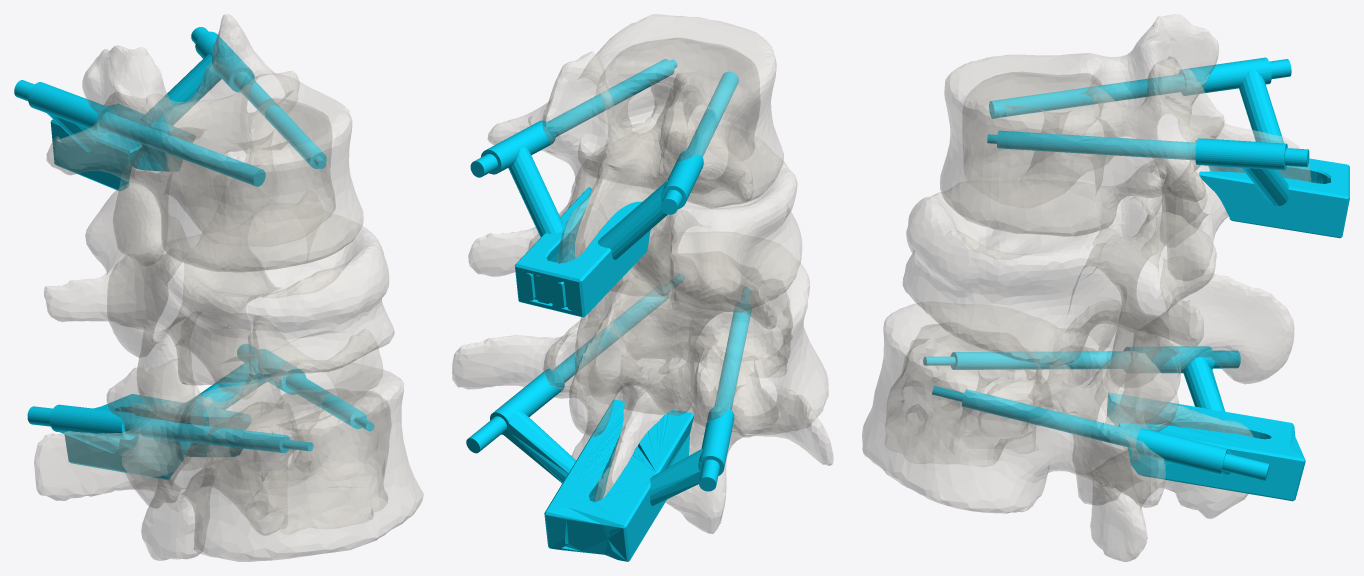
3 views of the same model, side by side, from view 1: azimuth 30°, elevation 25°; view 2: azimuth 150°, elevation 25°; view 3: azimuth 270°, elevation 25° (orthographic). The views are drawn at different scales.
Parts seen in each view (by area): view 1: L3, L1, L2, Guide_L3, Guide_L1; view 2: L3, L1, L2, Guide_L3, Guide_L1; view 3: L3, L2, L1, Guide_L3, Guide_L1.
Boxes of the visible parts, box(x1,y1,x2,y2) form: L3: box(34, 316, 423, 561); L1: box(46, 14, 363, 272); L2: box(44, 183, 394, 420); Guide_L3: box(27, 344, 374, 480); Guide_L1: box(14, 27, 326, 190); L3: box(452, 231, 833, 533); L1: box(487, 14, 783, 296); L2: box(468, 136, 802, 436); Guide_L3: box(466, 274, 751, 561); Guide_L1: box(470, 59, 738, 317); L3: box(862, 300, 1253, 561); L2: box(902, 159, 1294, 424); L1: box(940, 14, 1311, 280); Guide_L3: box(923, 346, 1305, 501); Guide_L1: box(987, 57, 1349, 238).
Size of the model in its own units: 0.0936 by 0.1196 by 0.1091.
